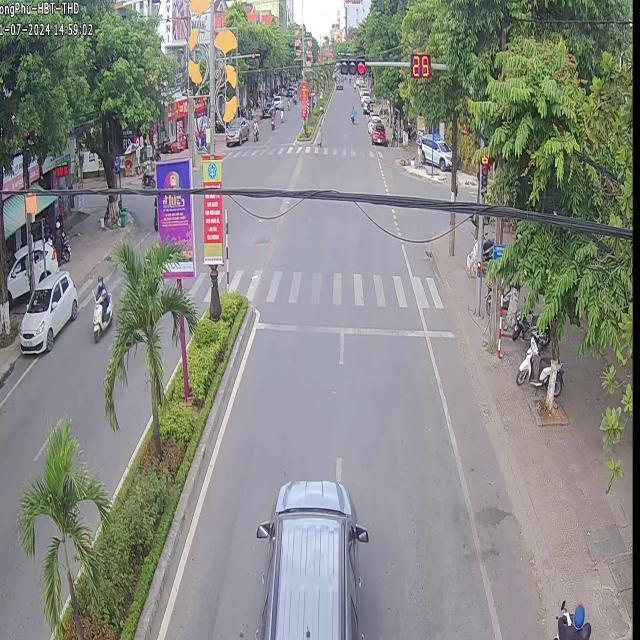car: (254, 478, 367, 638), (18, 269, 76, 354)
motobike: (90, 291, 110, 340)
red_light: (410, 51, 429, 80), (339, 57, 365, 75), (479, 152, 489, 194)
stop_line: (251, 319, 453, 336)
